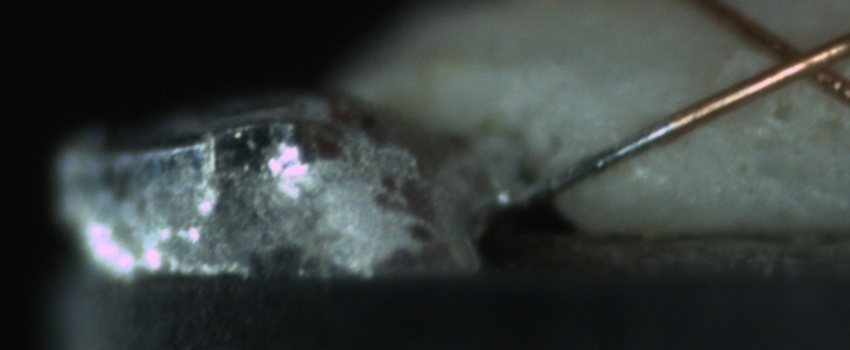CL: (744, 22, 848, 96)
TS: (496, 117, 674, 212)
TTCW: (489, 97, 720, 210)
